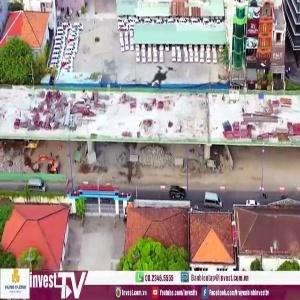drone: (132, 49, 191, 108)
